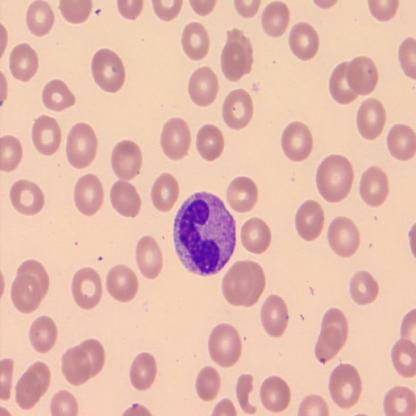Band Neutrophil: (170, 186, 238, 278)
